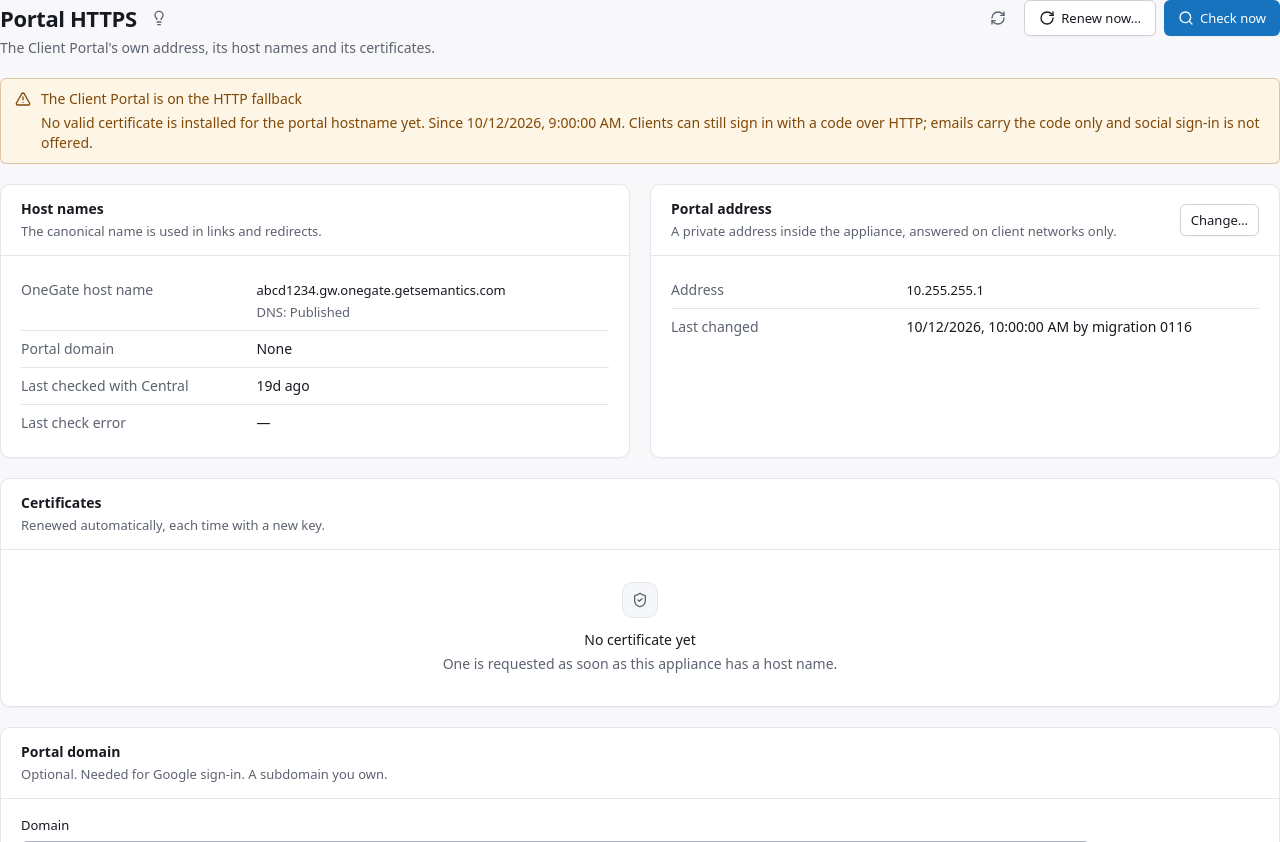
Test: Portal HTTPS page › shows netd's reasons when the address is refused
The image size is (1280, 842).
Click the button "Change…": (1219, 220) [1180,204,1259,236]
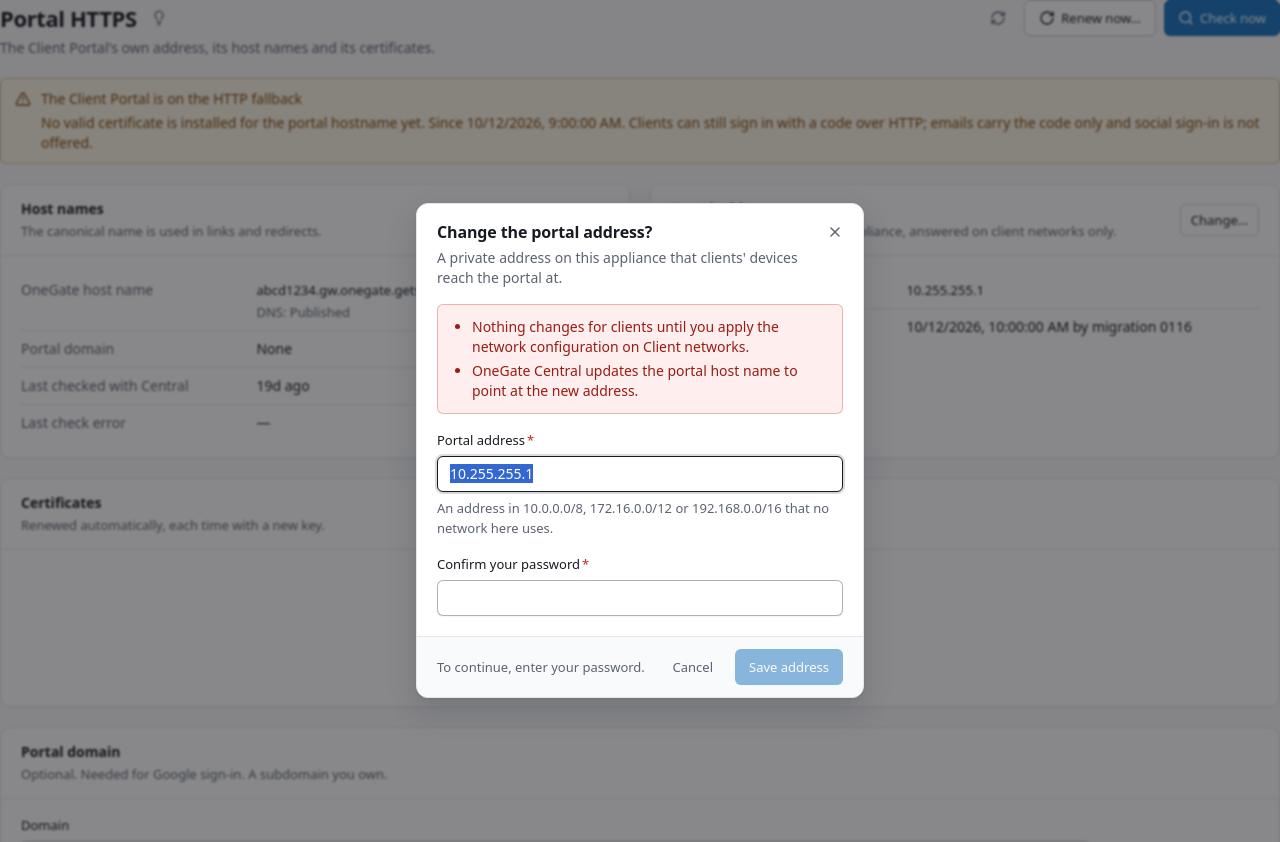
In the field labelled "Portal address*": (640, 474) [437,456,843,492], type "10.254.254.1"
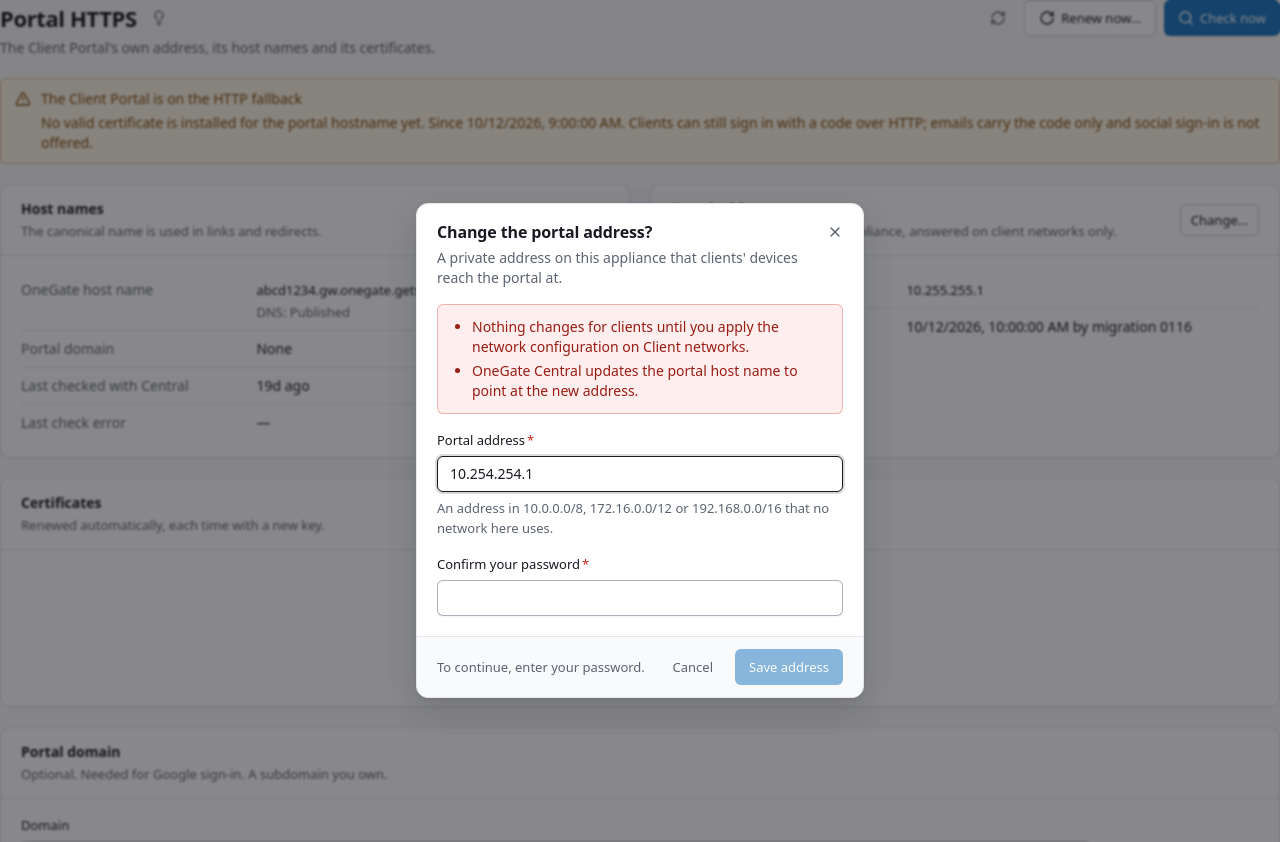
In the password field labelled "Confirm your password*": (640, 598) [437,580,843,616], type "pw"
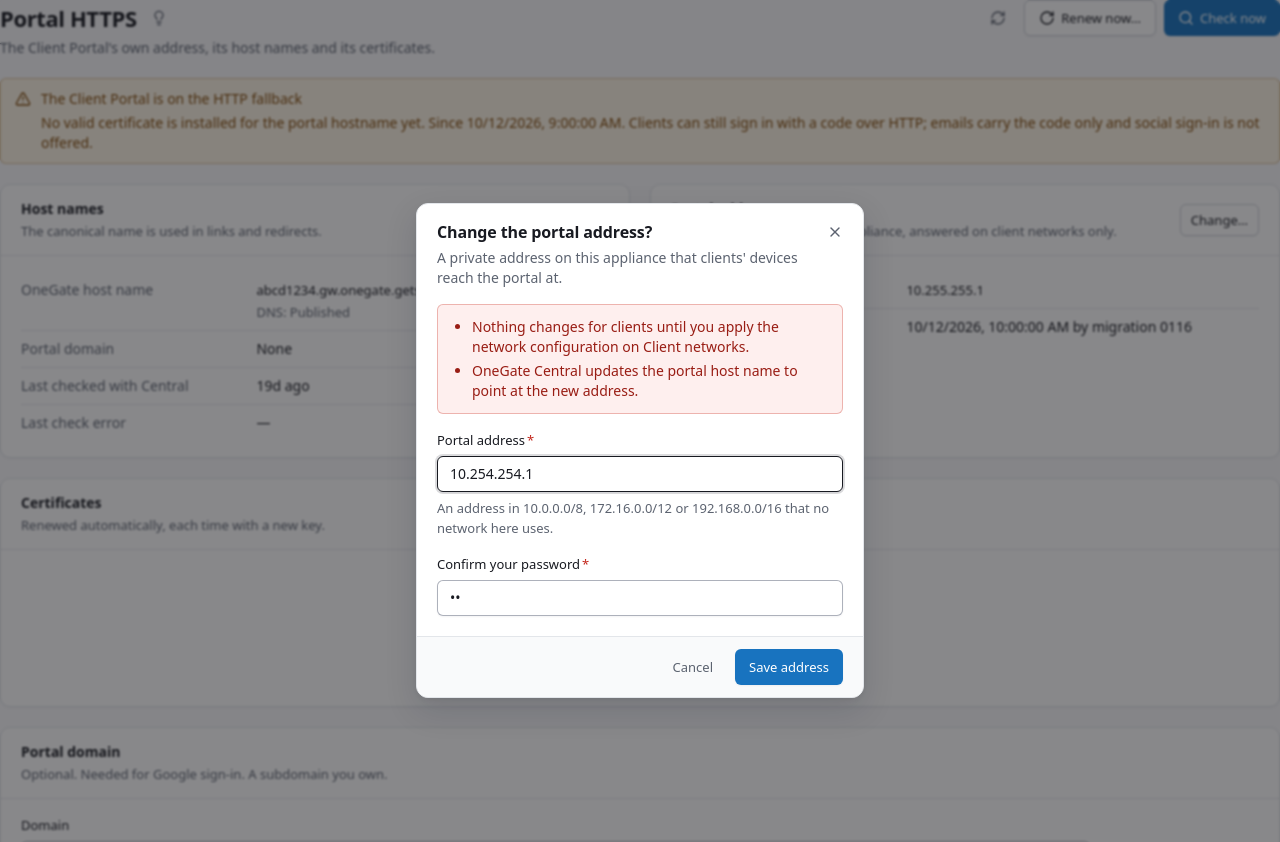
Click the button "Save address": (789, 666) [735,648,843,684]
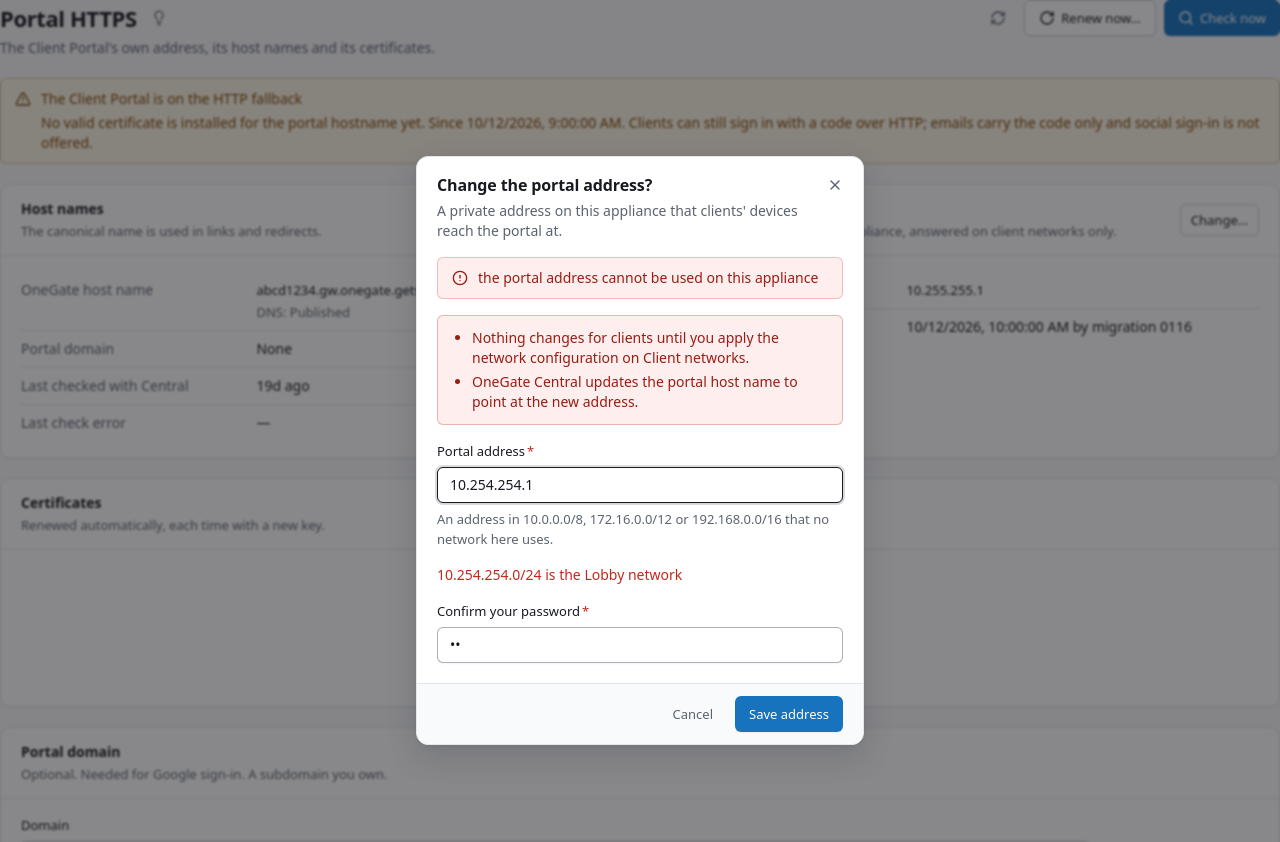
Expected: the list item "10.254.254.0/24 is the Lobby network" is shown, [437,564,682,584]
